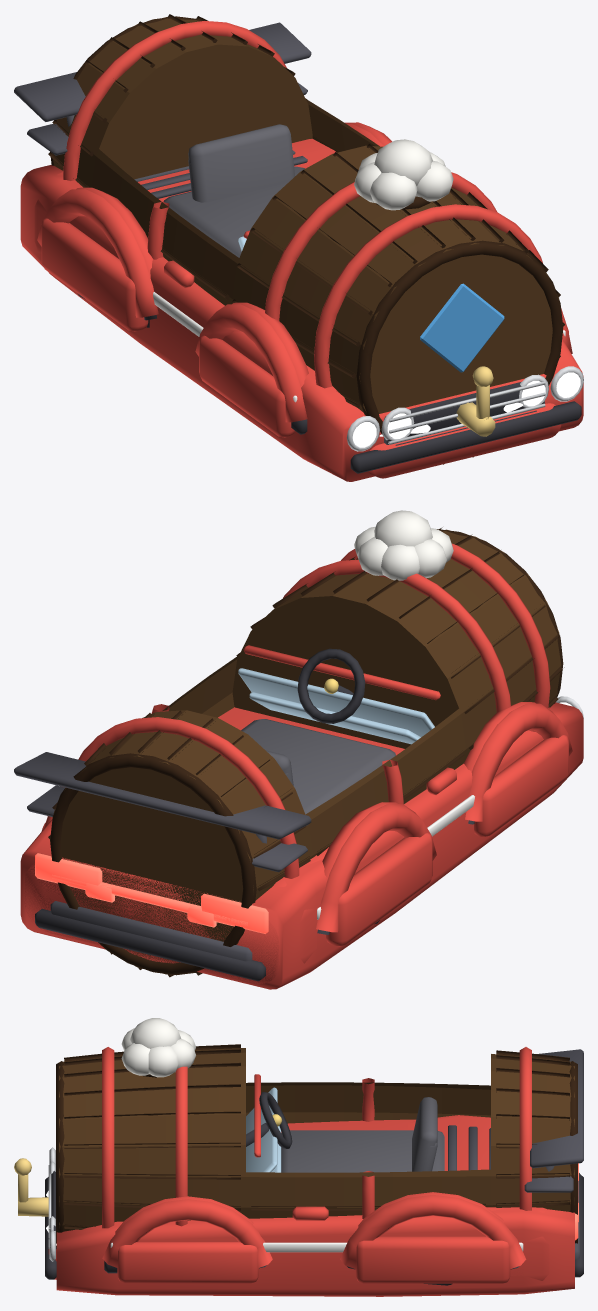
The model's file is kartbodies.glb.
3 renders of one model, top to bottom at view 1: azimuth 30°, elevation 25°; view 2: azimuth 150°, elevation 25°; view 3: azimuth 270°, elevation 25°, orthographic. The views are drawn at different scales.
Visible parts, largest first — view 1: KB_Fass, KB_Tourer, KB_Keil; view 2: KB_Fass, KB_Tourer, KB_Keil; view 3: KB_Fass, KB_Tourer, KB_Keil.
Boxes of the visible parts, x1=… form: KB_Fass: x1=48, y1=14, x2=564, y2=464; KB_Tourer: x1=14, y1=22, x2=583, y2=481; KB_Keil: x1=27, y1=83, x2=561, y2=478; KB_Fass: x1=48, y1=510, x2=564, y2=977; KB_Tourer: x1=14, y1=645, x2=583, y2=989; KB_Keil: x1=24, y1=692, x2=535, y2=983; KB_Fass: x1=14, y1=1018, x2=578, y2=1246; KB_Tourer: x1=45, y1=1049, x2=583, y2=1296; KB_Keil: x1=46, y1=1097, x2=579, y2=1285.
Size of the model in its own units: 2.28 by 2.15 by 4.42.
